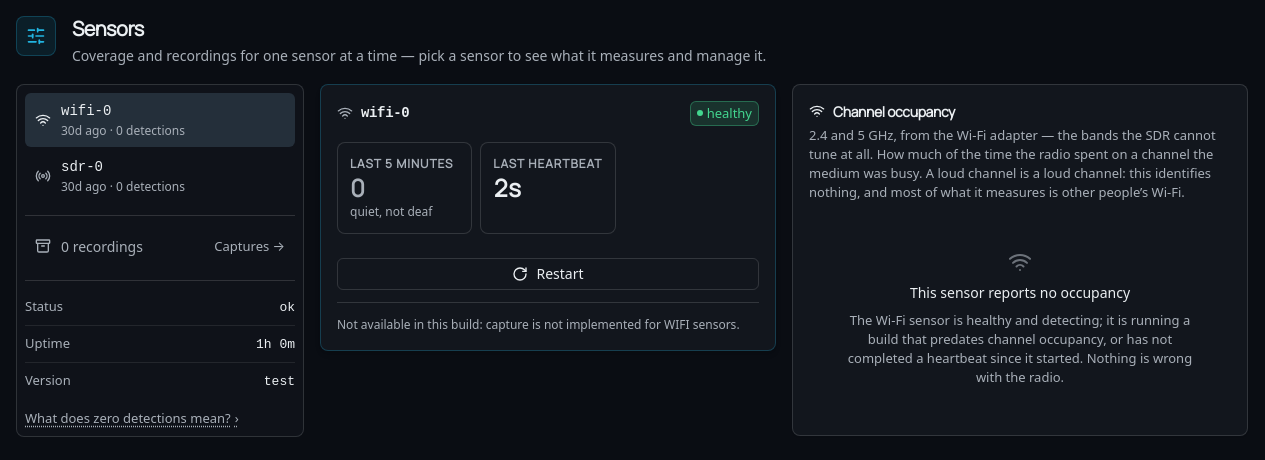
Test: SensorsView › links the SDR to the sweep page rather than embedding the sweep tool
Expected: the heading "Channel occupancy" is shown, left=809, top=102, right=955, bottom=121
Click the button "sdr-0 30d ago · 0 detections" at (160, 176), box left=25, top=149, right=295, bottom=203
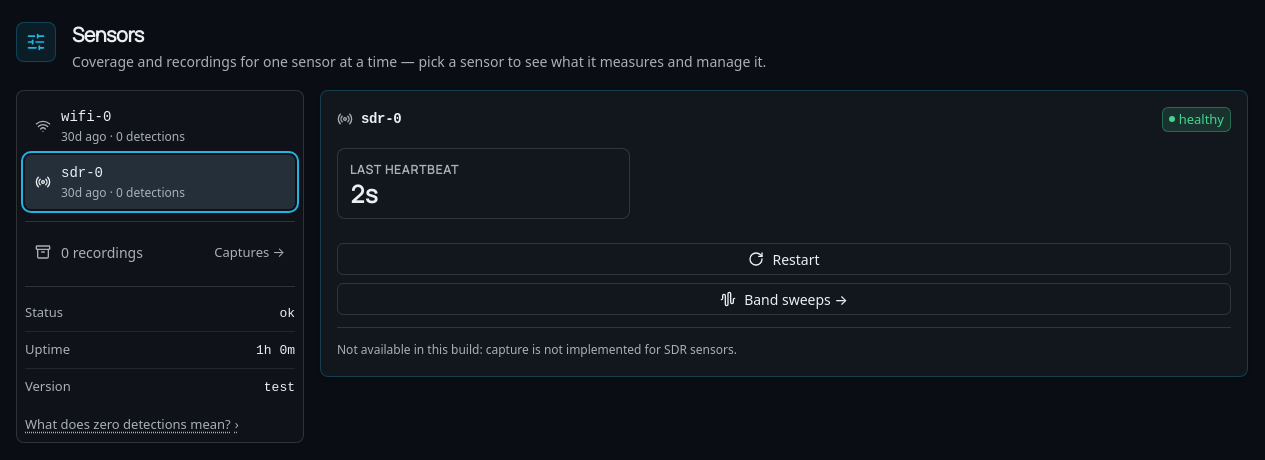
Now the heading "Channel occupancy" is gone
